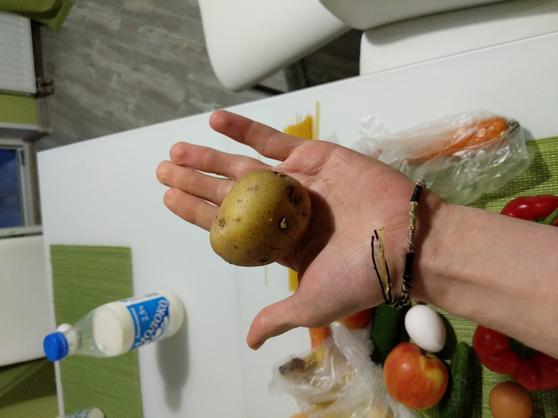carrot: (370, 112, 544, 170)
egg: (399, 300, 449, 352), (487, 379, 540, 418)
milk: (42, 283, 192, 365)
pepper: (469, 324, 558, 392)
potato: (202, 163, 312, 266)
